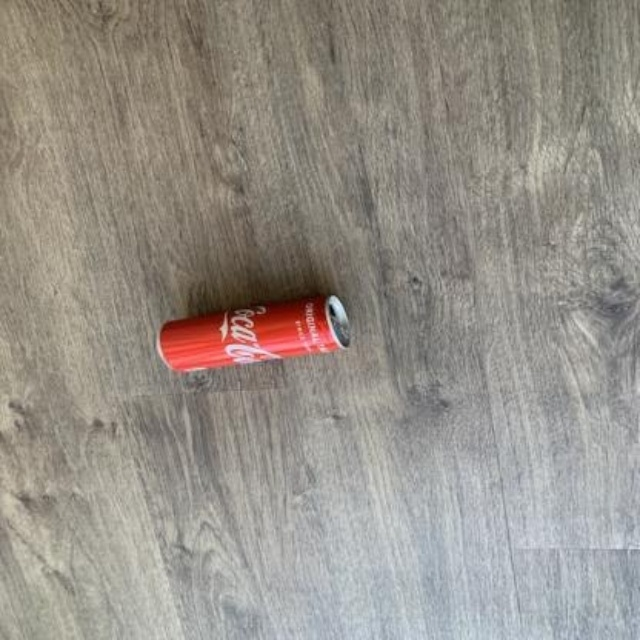trash: (157, 295, 348, 369)
